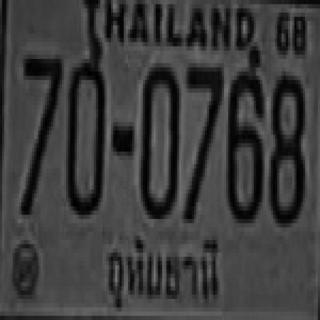N00: (64, 55, 105, 211), (138, 59, 177, 215)
N06: (226, 67, 262, 219)
N07: (19, 51, 60, 210), (182, 61, 221, 217)
N08: (269, 72, 303, 223)
P74: (102, 232, 226, 313)
